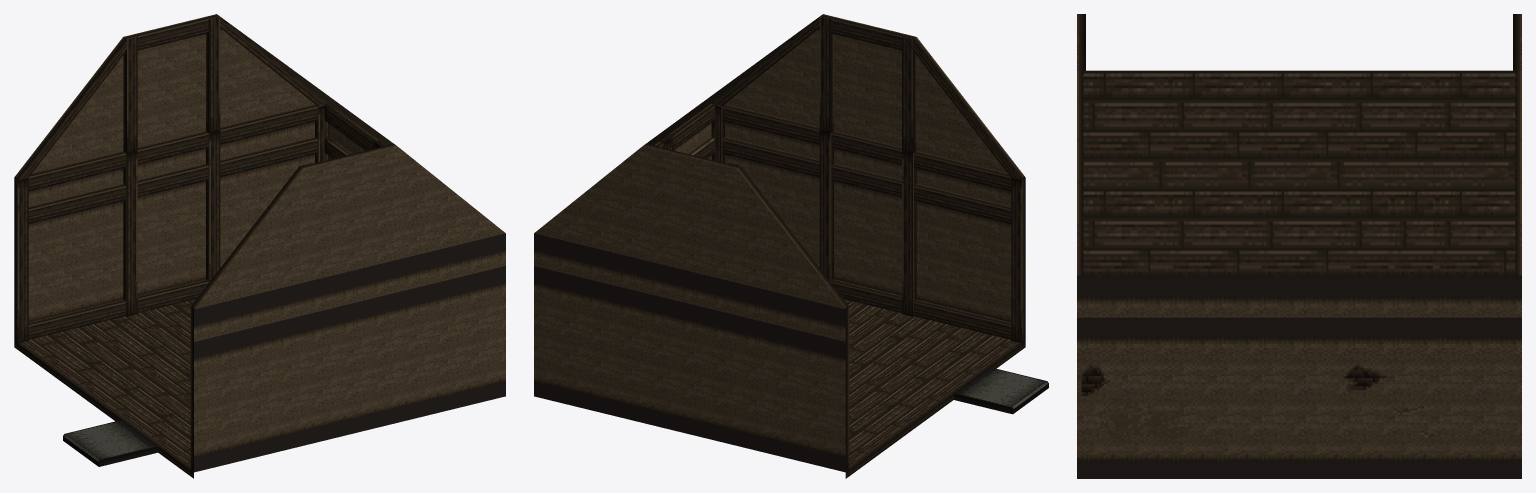
The model's file is EnvBdgMD_City_A_Indoor_SA_A.FBX.
3 renders of one model, left to right at view 1: azimuth 30°, elevation 25°; view 2: azimuth 150°, elevation 25°; view 3: azimuth 270°, elevation 25°, orthographic. The views are drawn at different scales.
Parts seen in each view (by area): view 1: EnvBdgMD_City_A_Indoor_SA_A; view 2: EnvBdgMD_City_A_Indoor_SA_A; view 3: EnvBdgMD_City_A_Indoor_SA_A.
Part boxes in pixels (left/top/right/bottom): EnvBdgMD_City_A_Indoor_SA_A: left=14, top=14, right=505, bottom=478; EnvBdgMD_City_A_Indoor_SA_A: left=534, top=14, right=1048, bottom=478; EnvBdgMD_City_A_Indoor_SA_A: left=1077, top=14, right=1521, bottom=478.
Size of the model in its own units: 1190 by 870 by 1000.
